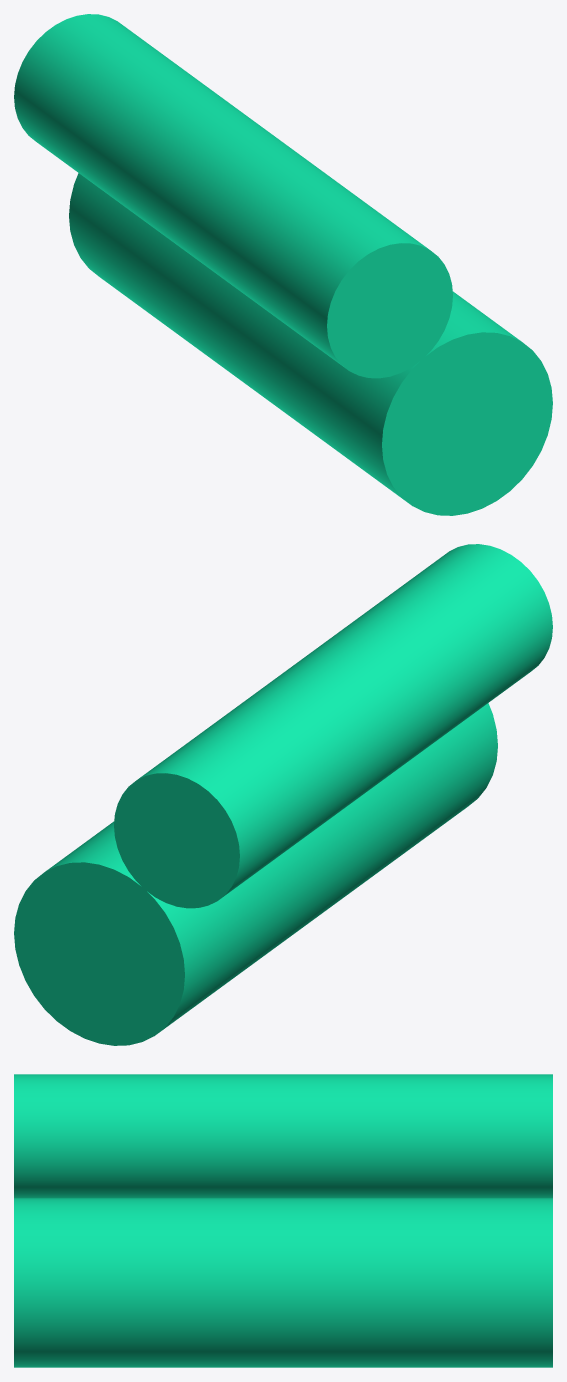
File: troncos.fbx
3 views of the same model, one above another, from view 1: azimuth 30°, elevation 25°; view 2: azimuth 150°, elevation 25°; view 3: azimuth 270°, elevation 25° (orthographic). The views are drawn at different scales.
Visible parts, largest first — view 1: Cylinder_1, Cylinder; view 2: Cylinder_1, Cylinder; view 3: Cylinder, Cylinder_1.
Part boxes in pixels (<box>): Cylinder_1: <box>14,14,452,378</box>; Cylinder: <box>69,173,552,515</box>; Cylinder_1: <box>114,544,552,908</box>; Cylinder: <box>14,703,497,1045</box>; Cylinder: <box>14,1198,552,1367</box>; Cylinder_1: <box>14,1074,552,1198</box>.
Size of the model in its own units: 132 by 161 by 317.
